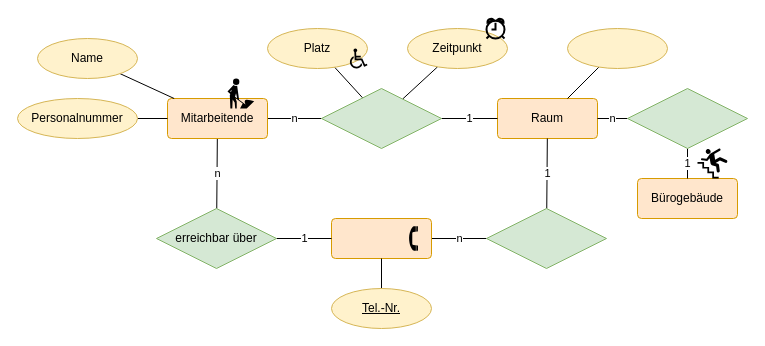
This 765x346 diagram has some shape labels left out. The centre of each missing label's shape, as x and y in pixels:
"aufgestellt in" belongs at [546,238].
"befindet sich in" belongs at [687,118].
"sitzt in, auf, seit" belongs at [381,118].
"Telefon" belongs at [381,238].
"ZimmerNr." belongs at [617,48].
